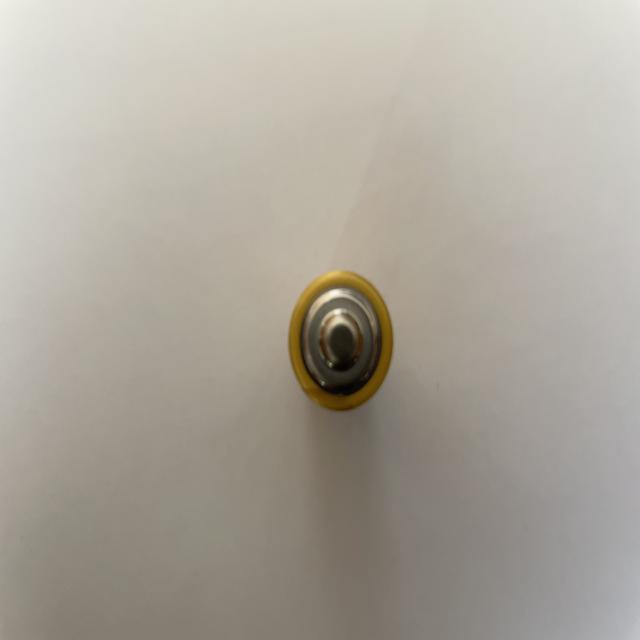hazardous waste: (282, 268, 396, 414)
